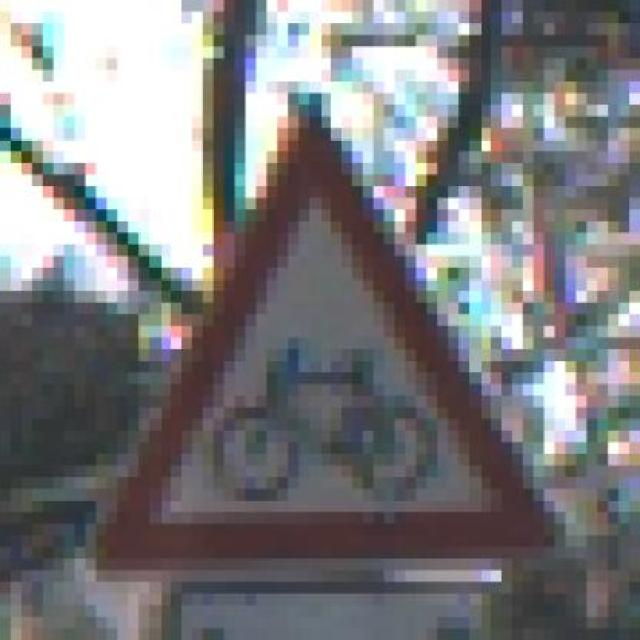CYCLE ROUTE AHEAD WARNING: (75, 69, 576, 594)
